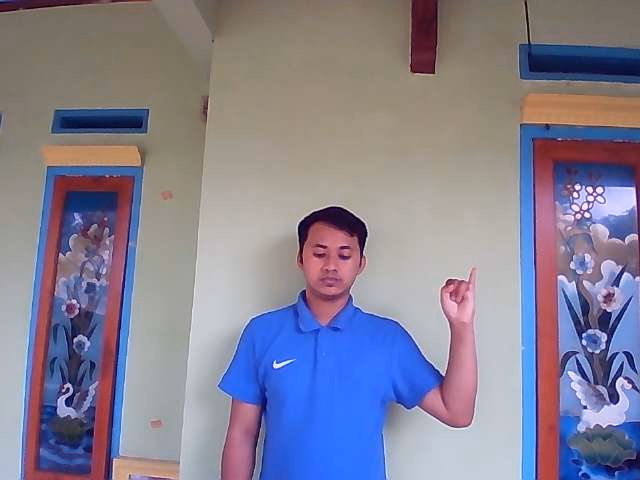I: (439, 265, 476, 326)
